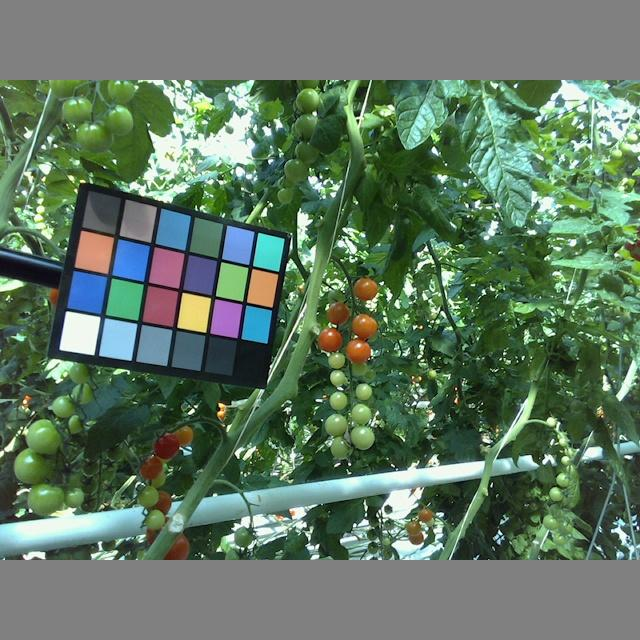green: (15, 446, 54, 486), (25, 481, 64, 516), (25, 417, 60, 454), (73, 124, 114, 153), (101, 81, 142, 104), (59, 95, 95, 121), (49, 395, 78, 419), (293, 88, 321, 112), (103, 108, 133, 130), (283, 157, 308, 182), (60, 486, 86, 509), (292, 116, 319, 137), (352, 426, 376, 449), (137, 484, 160, 508), (142, 508, 167, 530), (328, 434, 355, 454), (296, 141, 319, 164), (68, 361, 90, 383), (72, 383, 94, 405), (325, 413, 348, 433), (329, 392, 349, 411), (280, 184, 298, 205), (352, 404, 370, 425), (542, 513, 561, 531), (327, 351, 346, 368), (330, 368, 346, 387), (354, 381, 370, 400), (549, 484, 565, 502), (556, 471, 571, 487)
pink: (152, 433, 181, 458), (351, 276, 380, 300), (345, 340, 374, 364), (357, 312, 379, 341), (317, 329, 343, 351), (142, 457, 163, 478), (328, 302, 348, 323), (180, 427, 194, 447)
